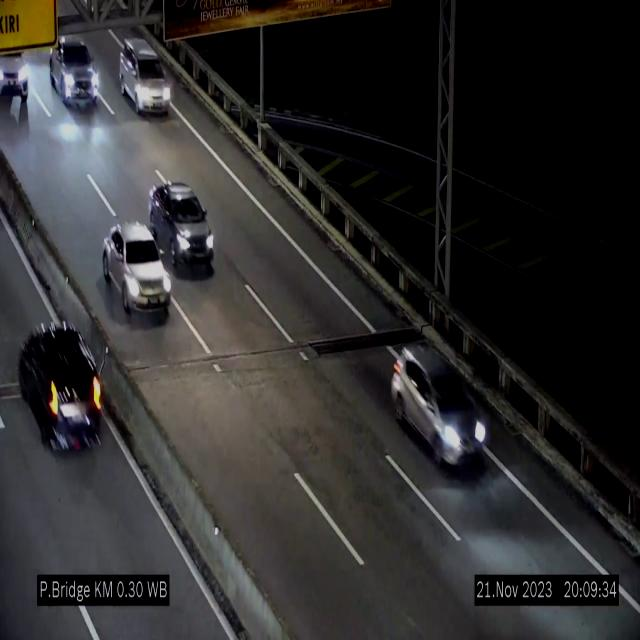Car: (11, 300, 109, 460), (391, 336, 488, 467), (102, 220, 170, 320), (149, 181, 215, 275), (119, 38, 171, 114), (50, 36, 100, 105), (0, 31, 42, 105)
